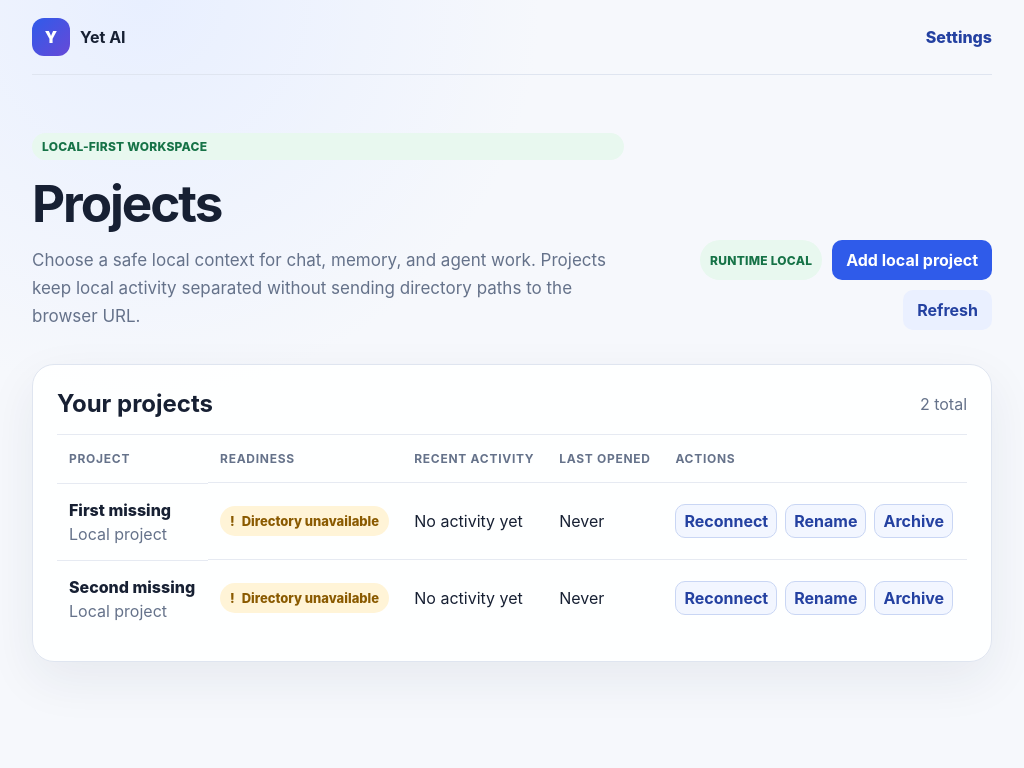
Test case: ProjectHub › ignores a frozen reconnect completion after the dialog identity changes
Click the button with aria-label "Reconnect project First missing" at (726,521), box [675,504,777,538]
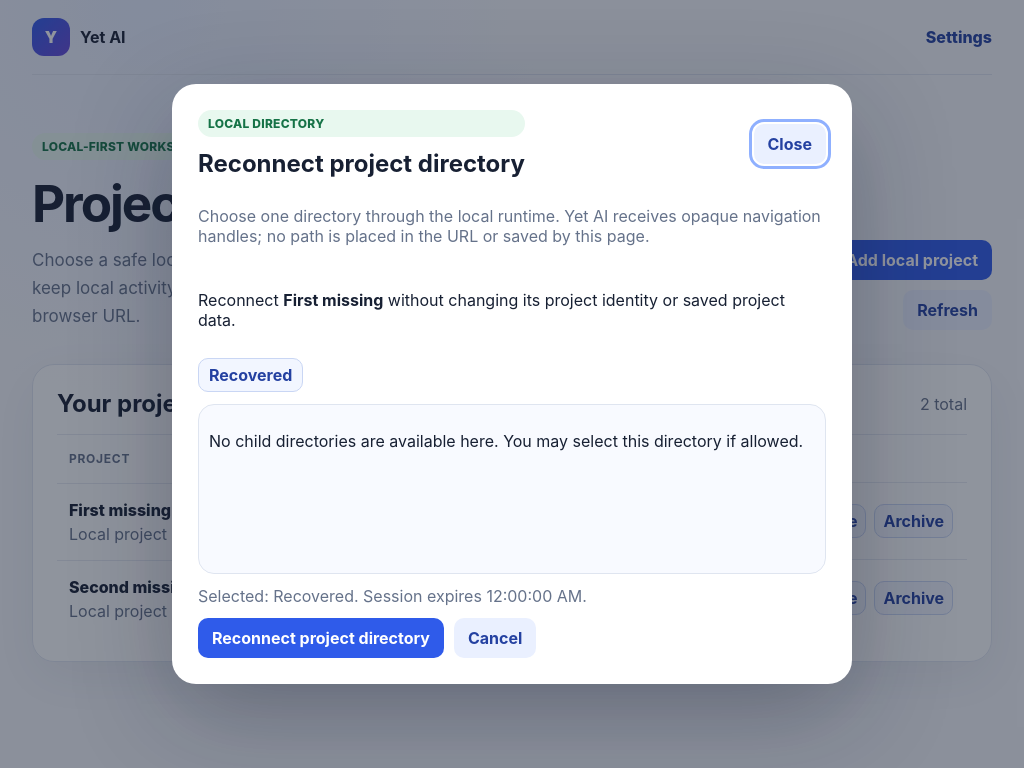
Submit the form, box [198,586,587,658]
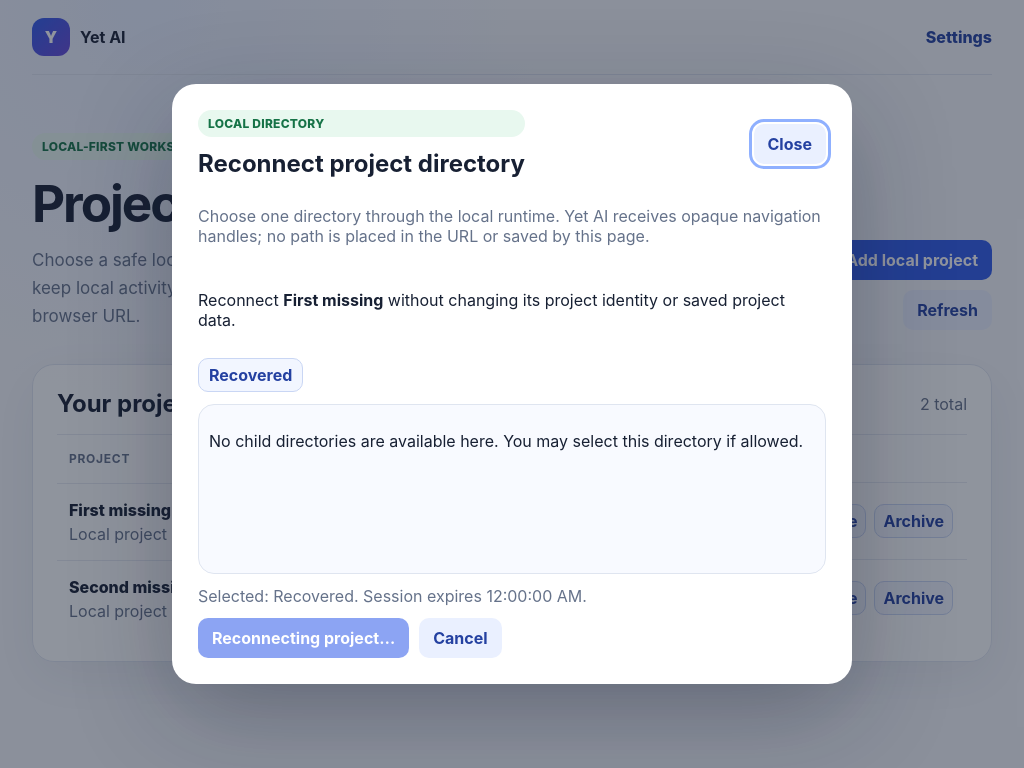
Click the button "Cancel" at (460,638), box [419,618,502,658]
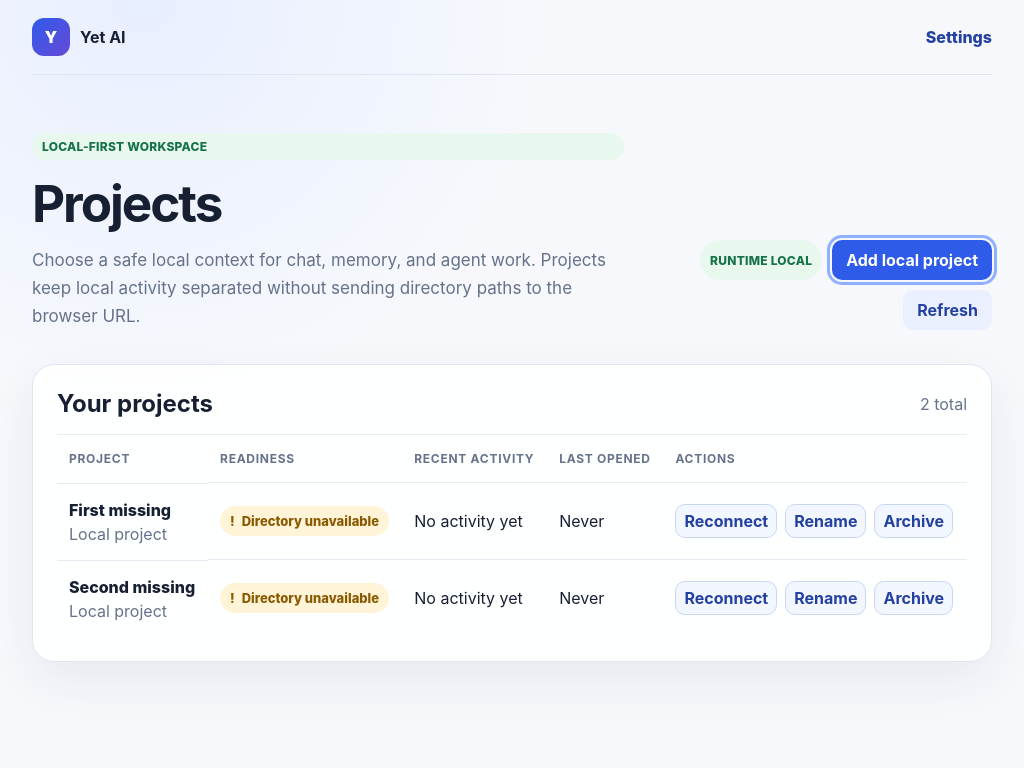
Click the button "Reconnect" in the row of "Second missing" at (726,598), box [675,581,777,615]
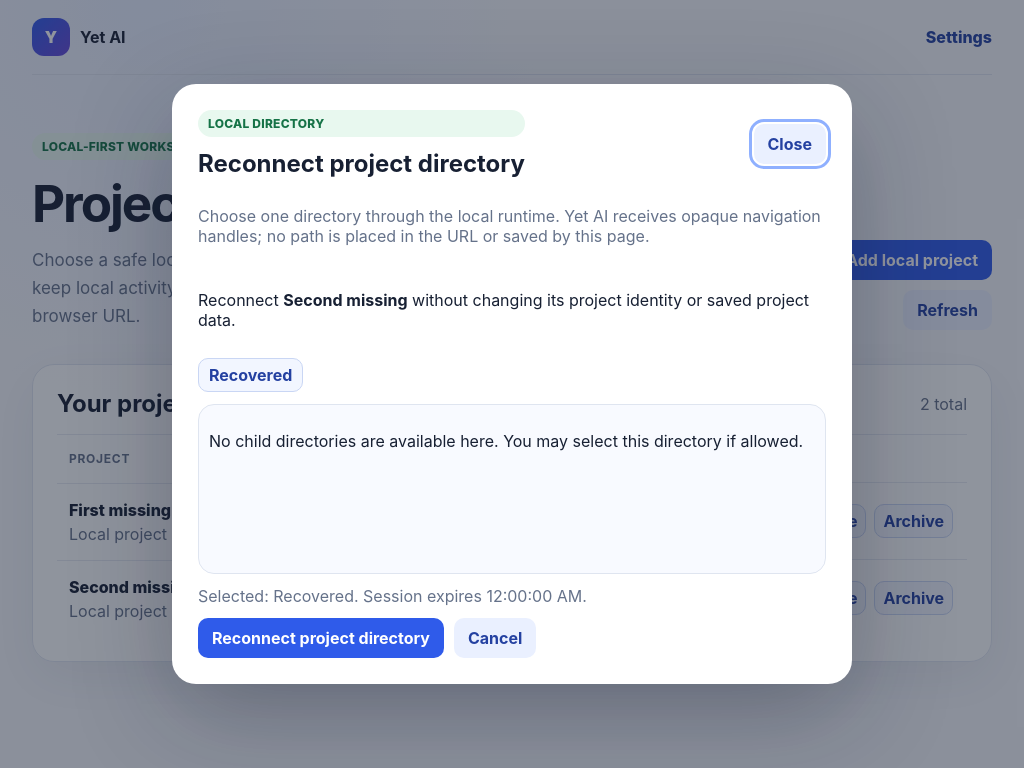
Now the text "Reconnect Second missing" is shown, box [198,290,826,330]
